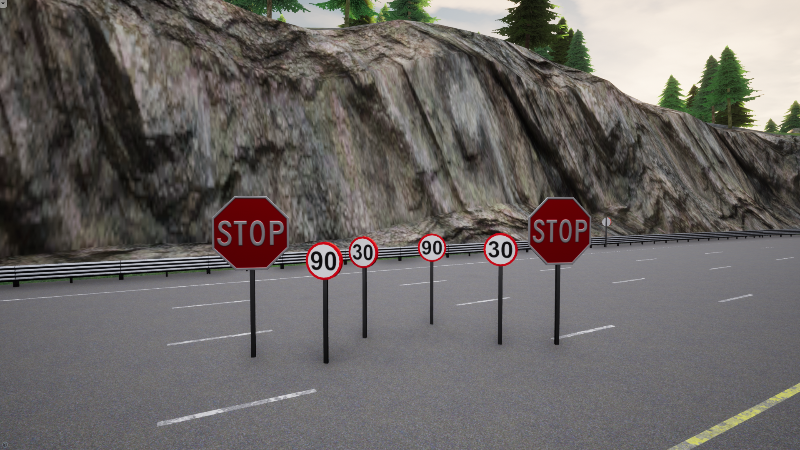fast: (305, 241, 344, 281), (417, 232, 446, 262)
slow: (483, 232, 519, 267), (348, 236, 378, 269)
stop: (212, 196, 290, 270), (528, 197, 591, 265)
